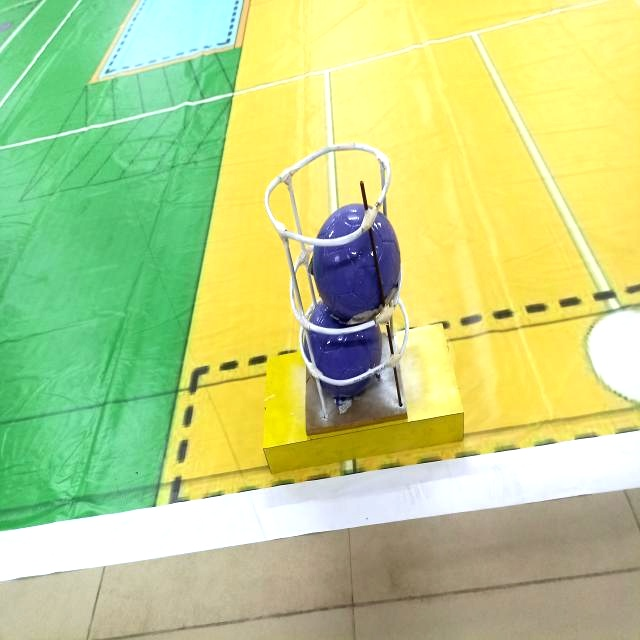purple_ball: (311, 199, 402, 322), (298, 303, 385, 393)
silo: (274, 140, 408, 450)
